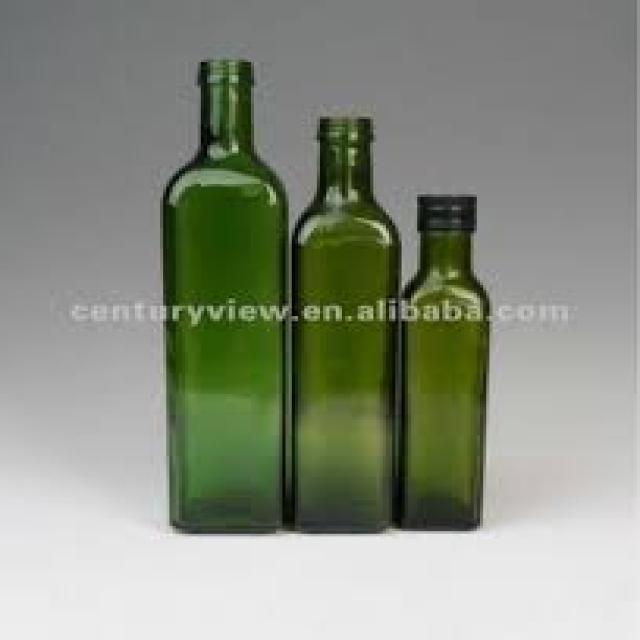Glass: (160, 55, 288, 539), (291, 114, 401, 534), (402, 234, 494, 533)
